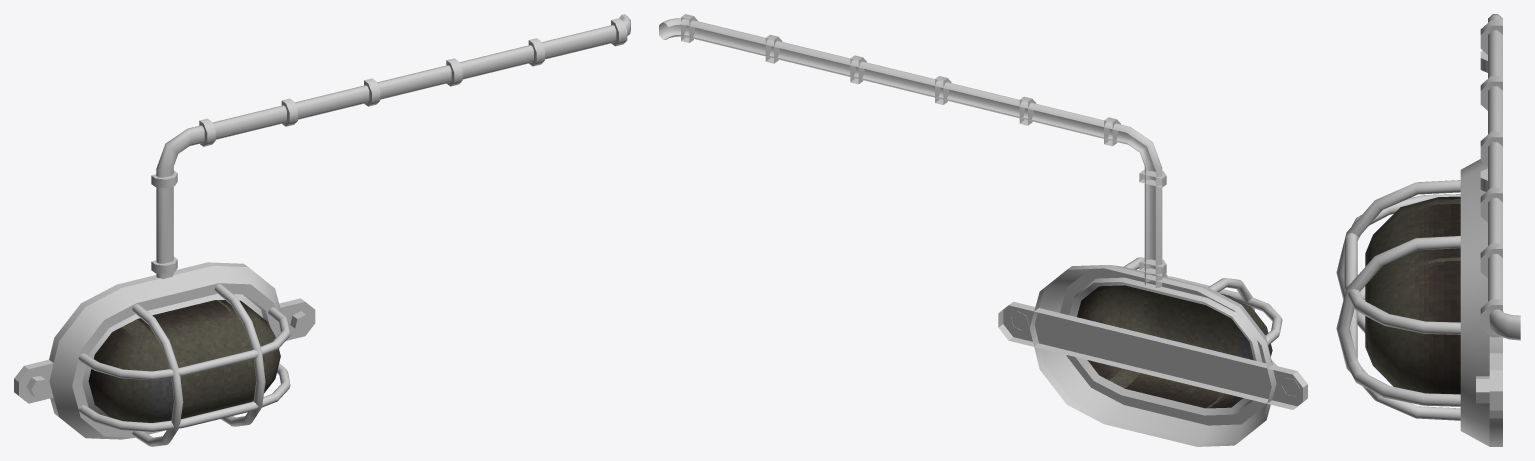
File: lamp_1_off.obj
3 renders of one model, left to right at view 1: azimuth 30°, elevation 25°; view 2: azimuth 150°, elevation 25°; view 3: azimuth 270°, elevation 25°, orthographic. The views are drawn at different scales.
Visible parts, largest first — view 1: lamp_1_off; view 2: lamp_1_off; view 3: lamp_1_off.
Boxes of the visible parts, x1,y1,x2,y2 form: lamp_1_off: (14,14,630,446); lamp_1_off: (659,14,1307,446); lamp_1_off: (1336,14,1520,446).
Size of the model in its own units: 0.7532 by 0.343 by 0.1393.
